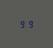nine: (19, 20, 25, 28), (26, 20, 32, 27)
